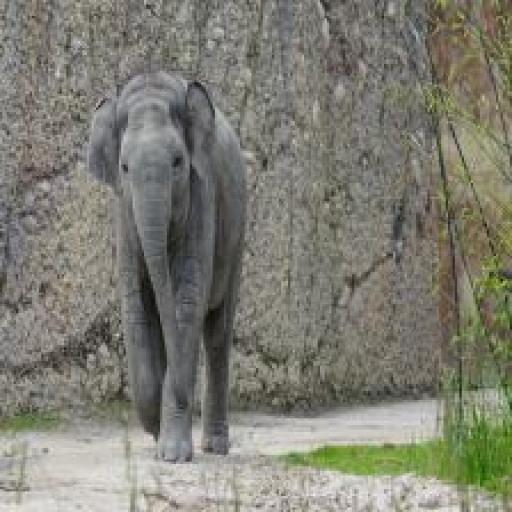Elephant: (87, 62, 256, 460)
